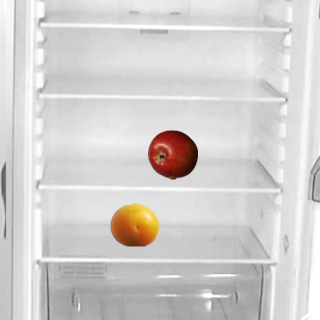Apple Braeburn: (147, 129, 197, 179)
Cherry Wax Yellow: (109, 199, 159, 249)
